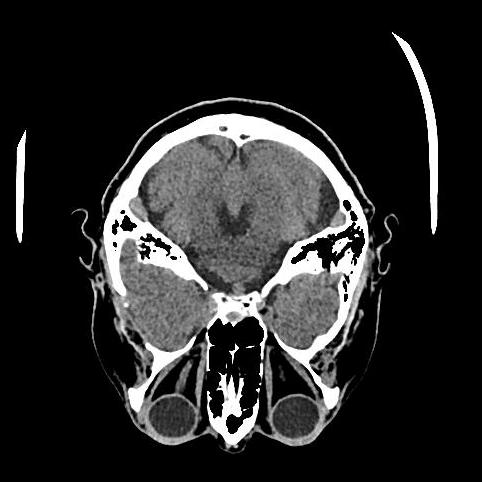Normal_Brain: (69, 91, 395, 455)
